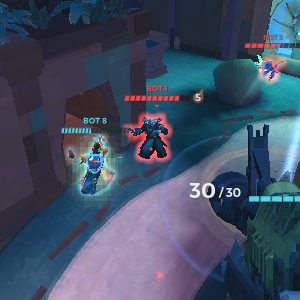model: (136, 109, 176, 158), (260, 51, 279, 86)
